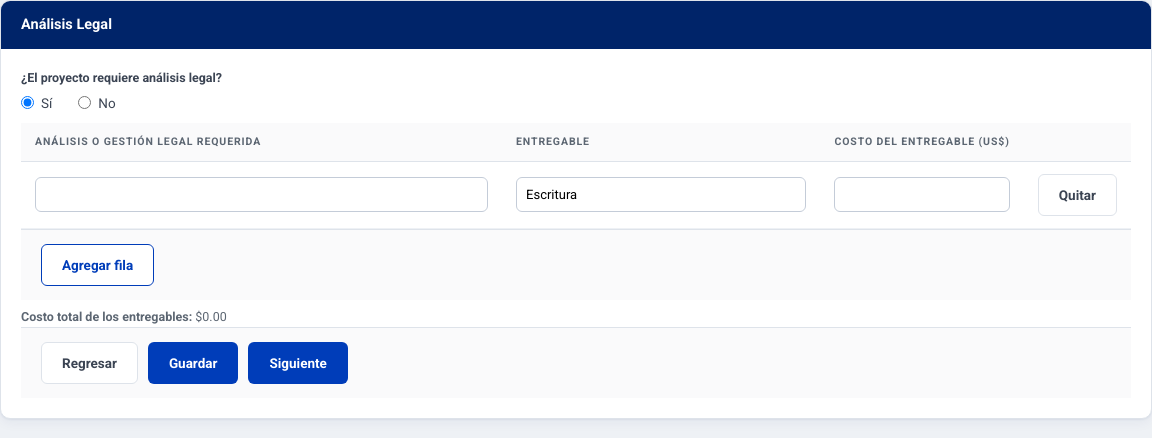
Test: Análisis Legal (CU-PRE-16) › guarda las filas y muestra el total del servidor
The width and height of the screenshot is (1152, 438).
Type "900" into the field named "Costo del entregable" at (922, 195), box [834,177,1010,212]
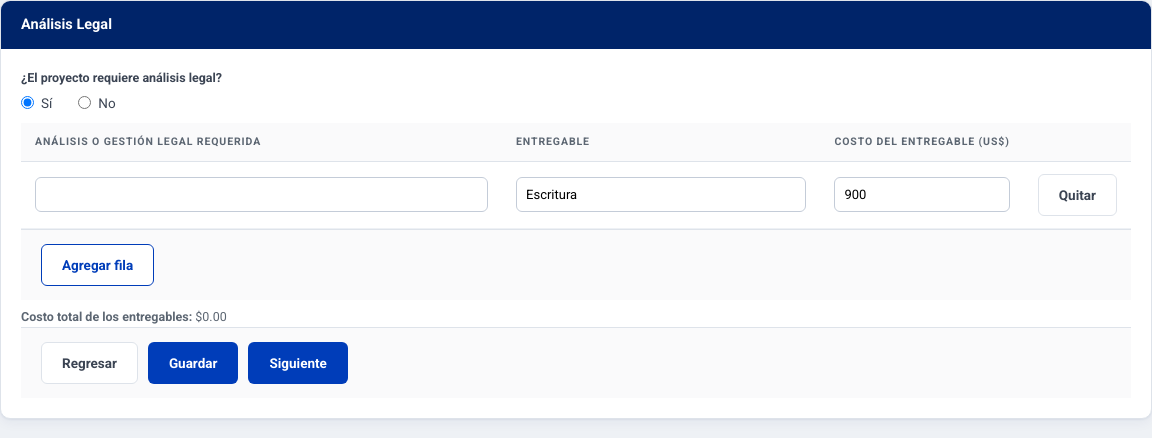
Click the button "Guardar" at (193, 363), box [148,342,238,384]
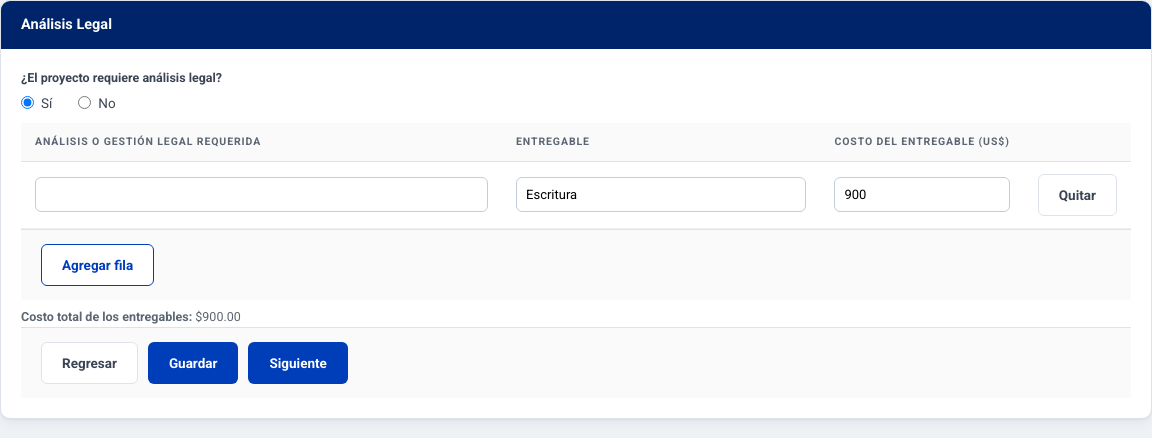
Result: the text "Costo total de los entregables: $900.00" is shown at [21,309,241,324]
